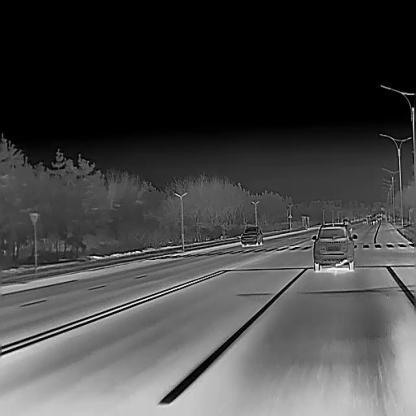car: (311, 221, 357, 270), (241, 225, 263, 245), (342, 218, 350, 224), (371, 217, 376, 223), (361, 219, 366, 224)
